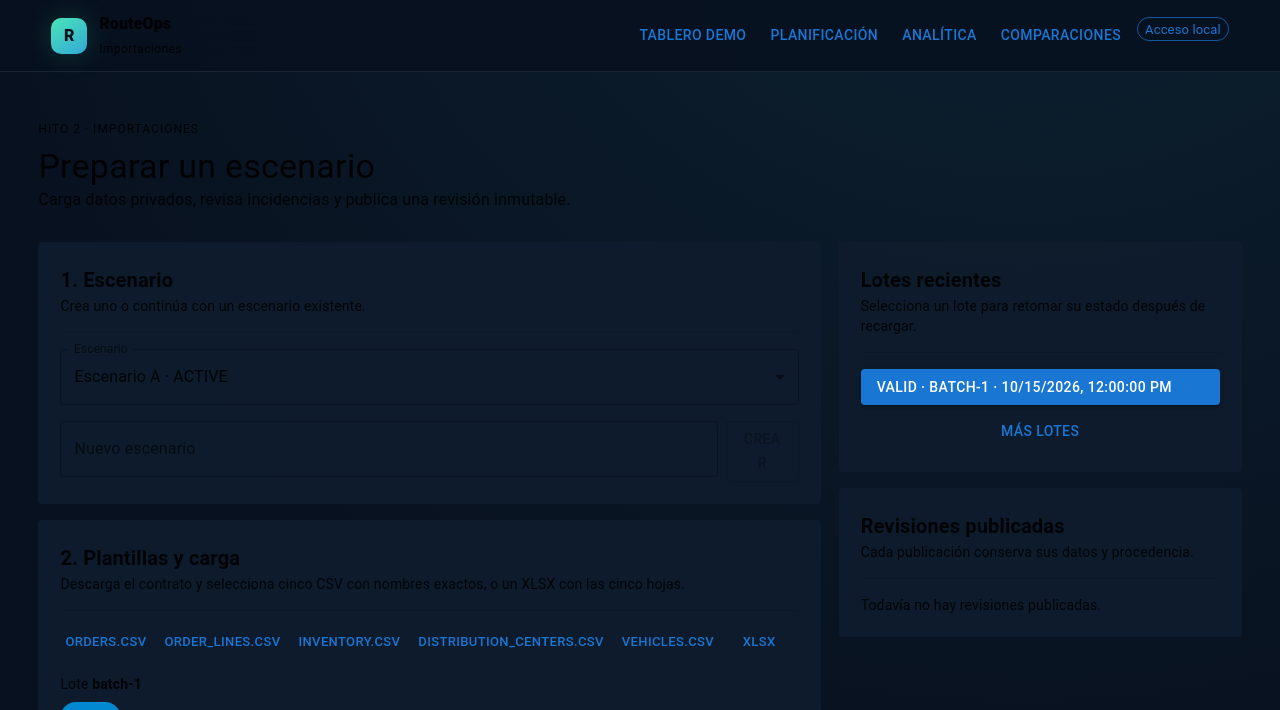
Test case: import workflow › keeps the selected batch and loaded pages when its status changes
The width and height of the screenshot is (1280, 710).
Click the button "Más lotes".
click(1040, 432)  # box [861,413,1220,450]
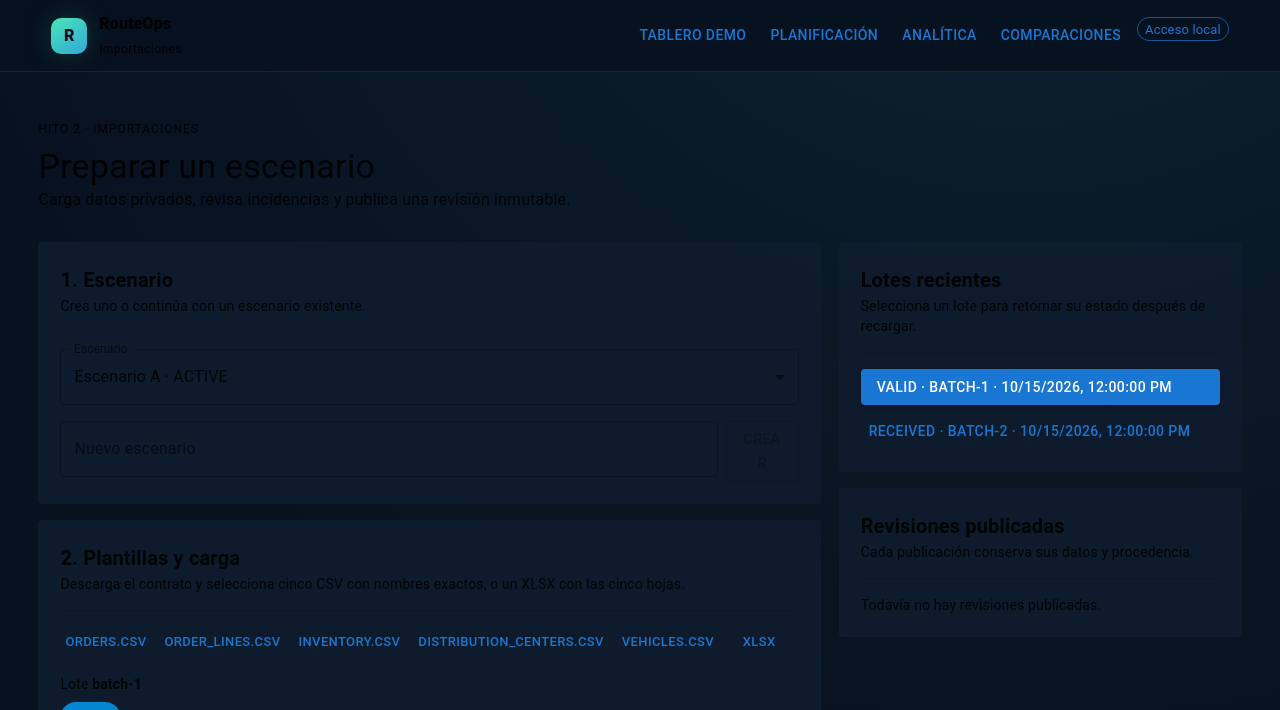
Expected: the button "RECEIVED · batch-2 · 10/15/2026, 12:00:00 PM" is shown, [861,413,1220,450]
